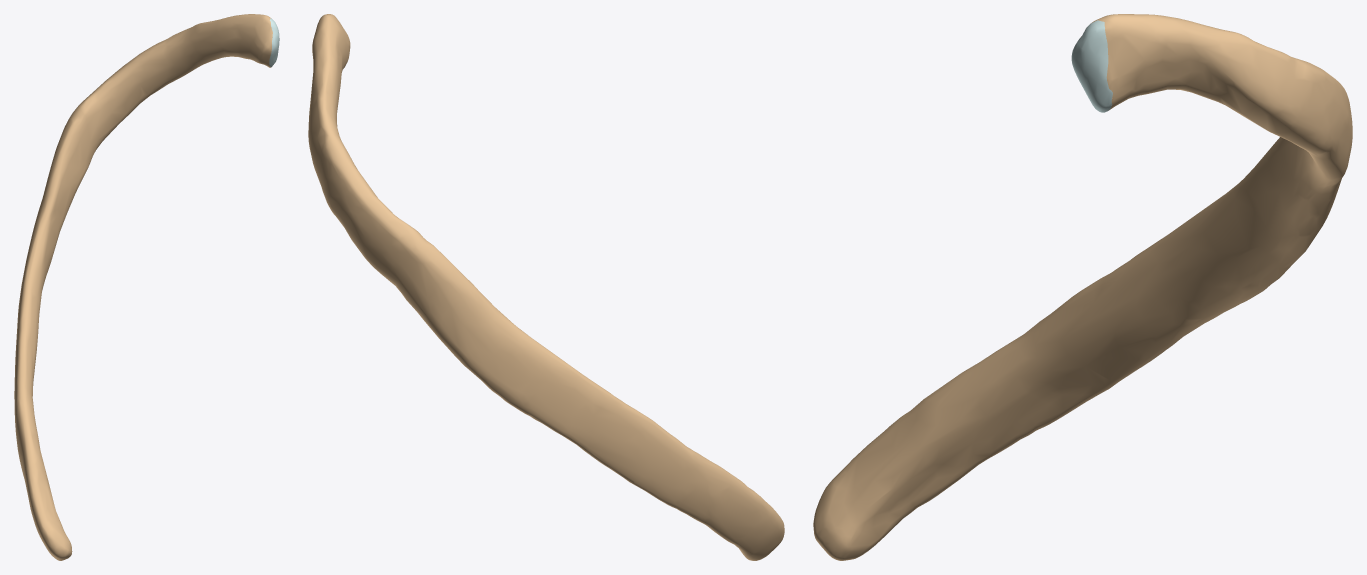
File: 11th_rib.r_Generated_Mesh_From_X3D.893.glb
The picture shows the model from 3 angles, left to right: view 1: azimuth 30°, elevation 25°; view 2: azimuth 150°, elevation 25°; view 3: azimuth 270°, elevation 25°; orthographic projection. The views are drawn at different scales.
Parts seen in each view (by area): view 1: 11th_rib.r_Generated_Mesh_From_X3D.893; view 2: 11th_rib.r_Generated_Mesh_From_X3D.893; view 3: 11th_rib.r_Generated_Mesh_From_X3D.893.
Part boxes in pixels (x1,y1,x2,y2): 11th_rib.r_Generated_Mesh_From_X3D.893: (14,14,279,560); 11th_rib.r_Generated_Mesh_From_X3D.893: (308,14,784,560); 11th_rib.r_Generated_Mesh_From_X3D.893: (813,14,1352,560).
Size of the model in its own units: 0.0998 by 0.132 by 0.0812.
